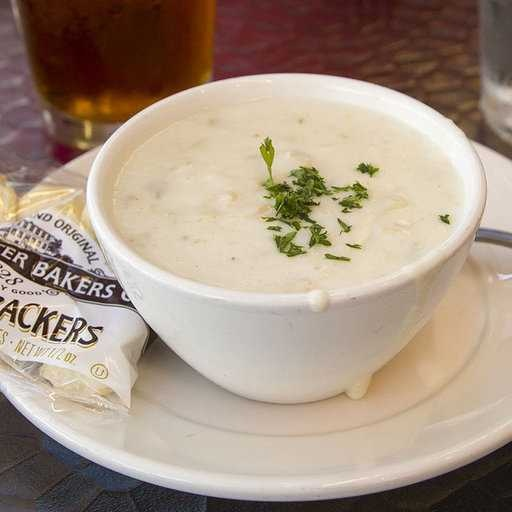soup: (115, 101, 452, 287)
